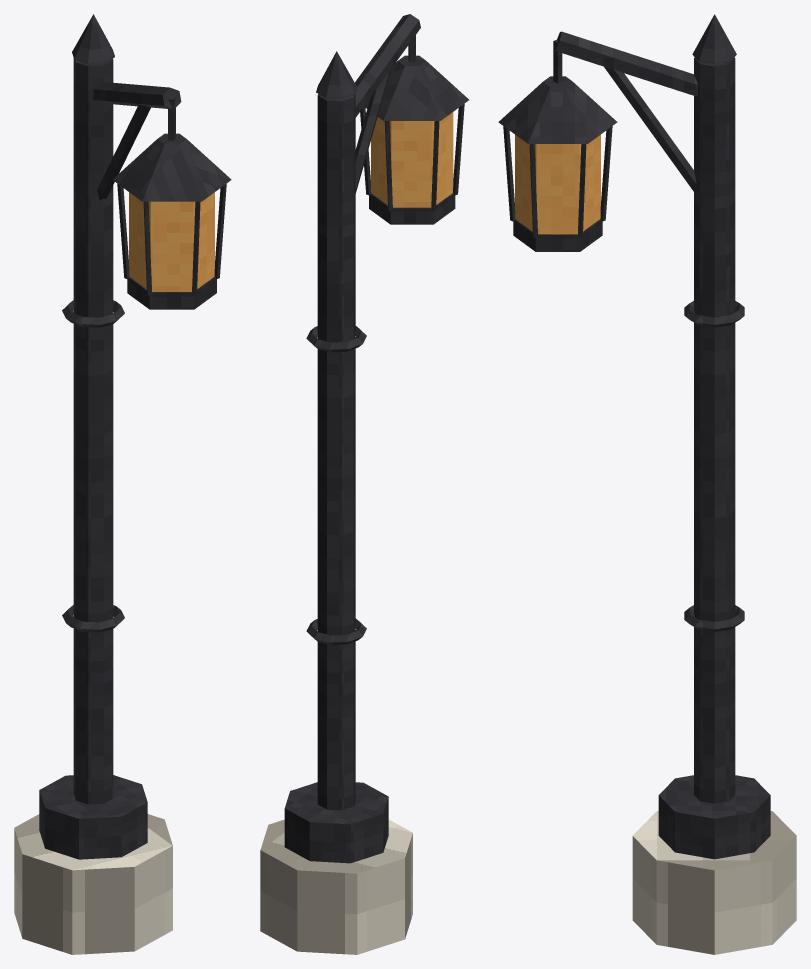
File: street_lamp.obj
3 views of the same model, side by side, from view 1: azimuth 30°, elevation 25°; view 2: azimuth 150°, elevation 25°; view 3: azimuth 270°, elevation 25° (orthographic). The views are drawn at different scales.
Visible parts, largest first — view 1: street_lamp; view 2: street_lamp; view 3: street_lamp.
Part boxes in pixels (x1,y1,x2,y2): street_lamp: (14,14,231,954); street_lamp: (260,14,468,954); street_lamp: (498,14,796,954).
Bounding box in the file's own units: 0.44 × 2.68 × 0.8.
